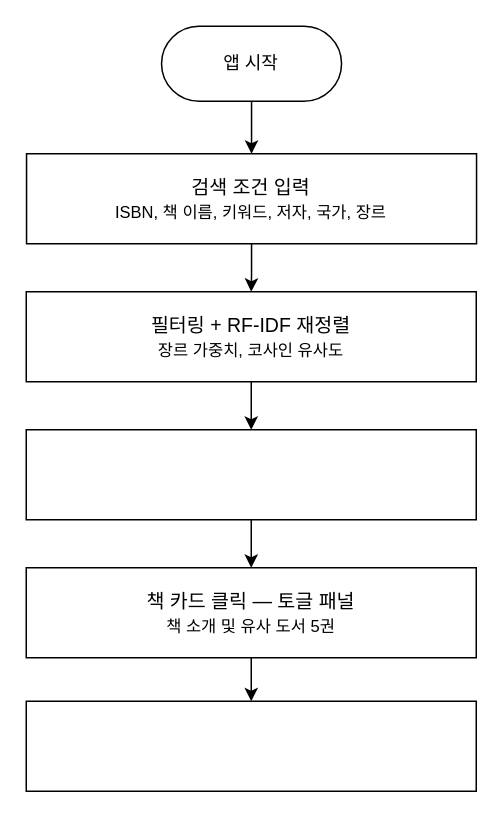
Image size: 504x818. Some labels were removed from this diagram. Here are the shapes that lost their labels. From the top down, the centre of each, then its label:
At (250,474): "검색 결과 출력".
At (250,745): "플레이리스트 팝업 장르에 대한 Youtube 재생".
